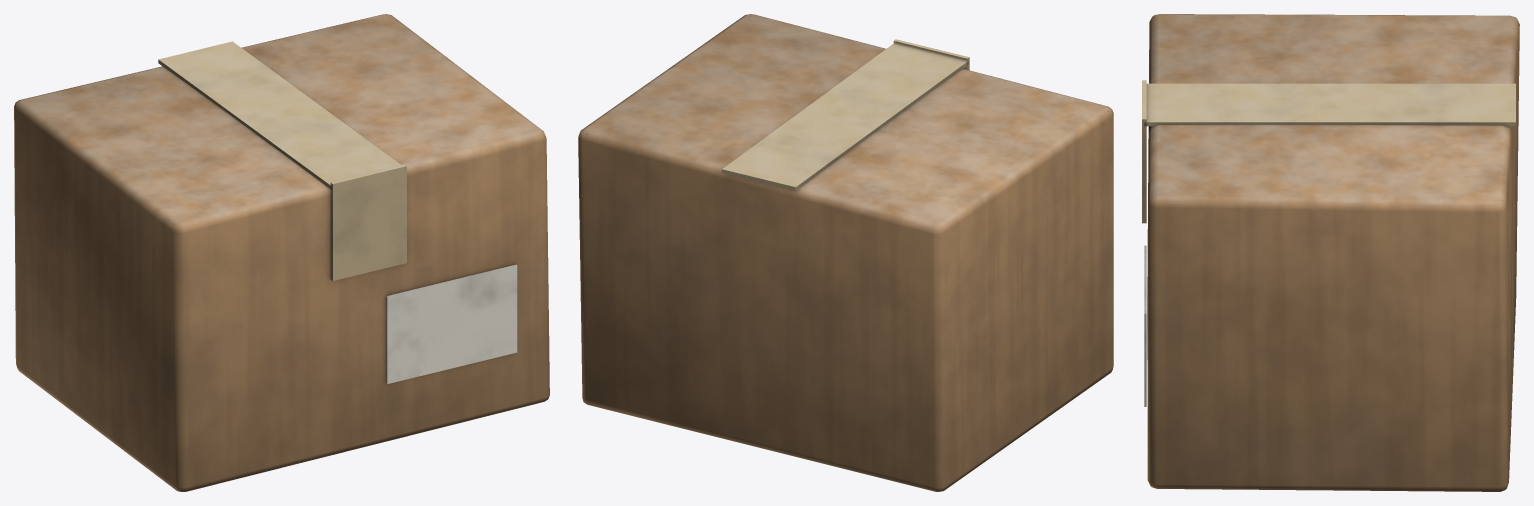
Rendered from box_loose.fbx.
3 renders of one model, left to right at view 1: azimuth 30°, elevation 25°; view 2: azimuth 150°, elevation 25°; view 3: azimuth 270°, elevation 25°, orthographic. The views are drawn at different scales.
Parts seen in each view (by area): view 1: Body; view 2: Body; view 3: Body.
Part boxes in pixels (left/top/right/bottom): Body: left=14, top=14, right=549, bottom=491; Body: left=578, top=14, right=1113, bottom=491; Body: left=1142, top=14, right=1519, bottom=491.
Size of the model in its own units: 2.04 by 1.44 by 1.65.
Materials: 1 (1 with a texture image).
